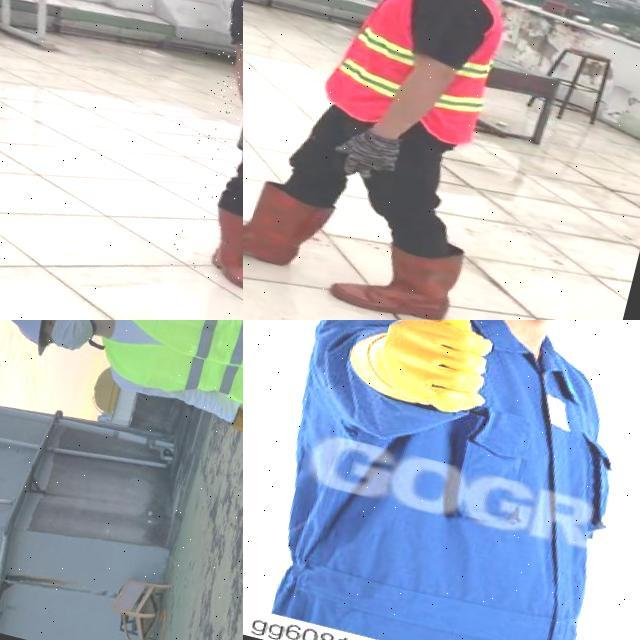boots: (328, 226, 462, 320), (243, 163, 335, 275), (191, 197, 243, 300)
helmet: (0, 320, 78, 364)
vest: (315, 0, 509, 146), (88, 320, 243, 411)
